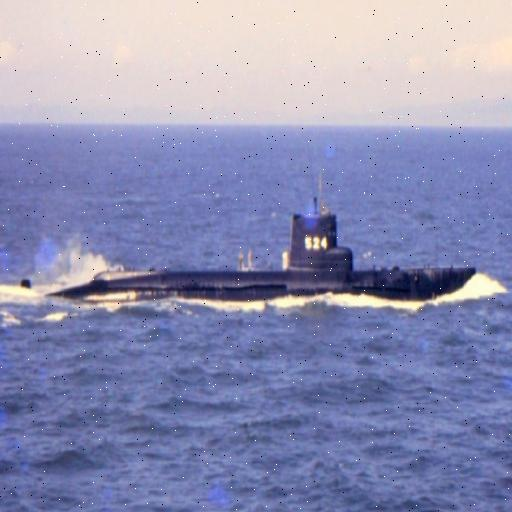submarine: (24, 207, 475, 304)
